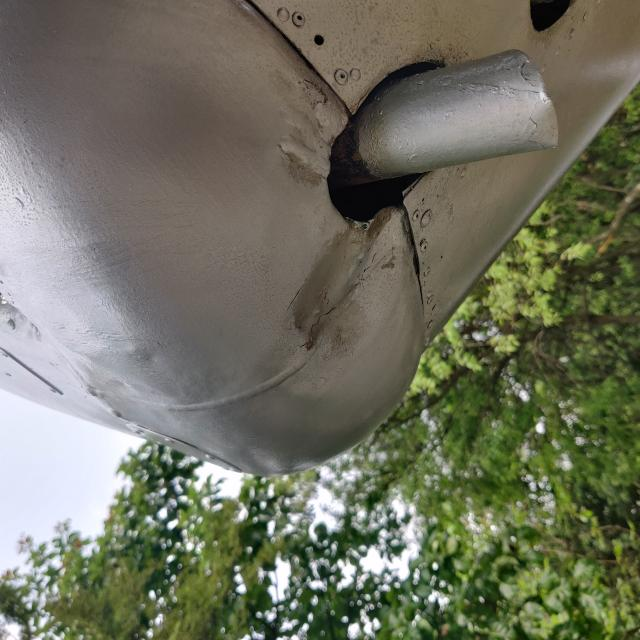dent: (258, 262, 435, 410), (439, 260, 518, 339)
